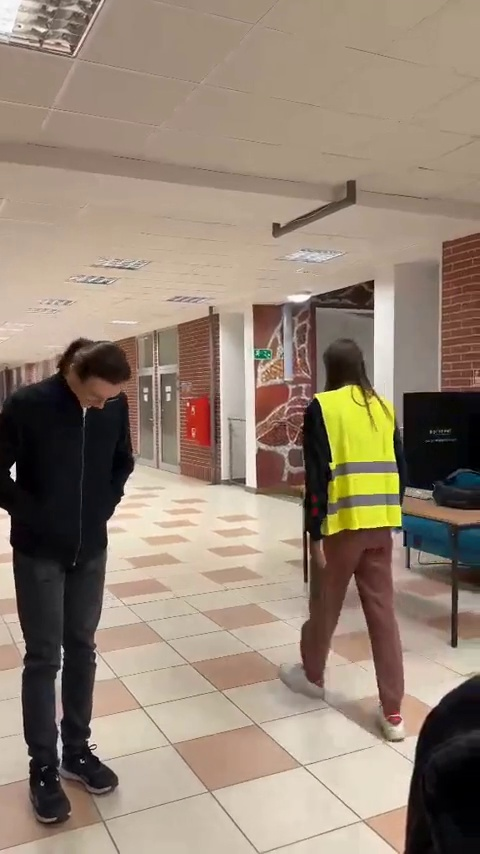no vest: (2, 331, 136, 828)
vest: (296, 337, 414, 713)
